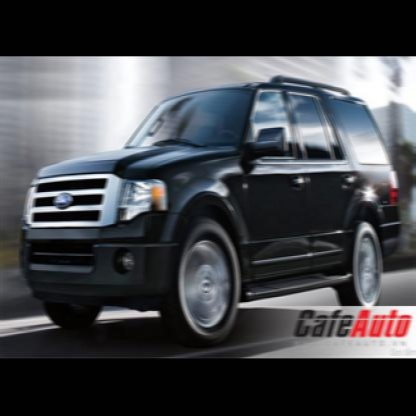Vehicle: (20, 75, 404, 350)
